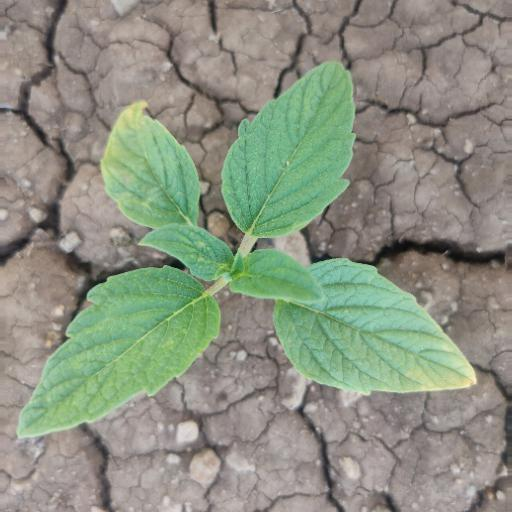crop: (15, 57, 485, 443)
